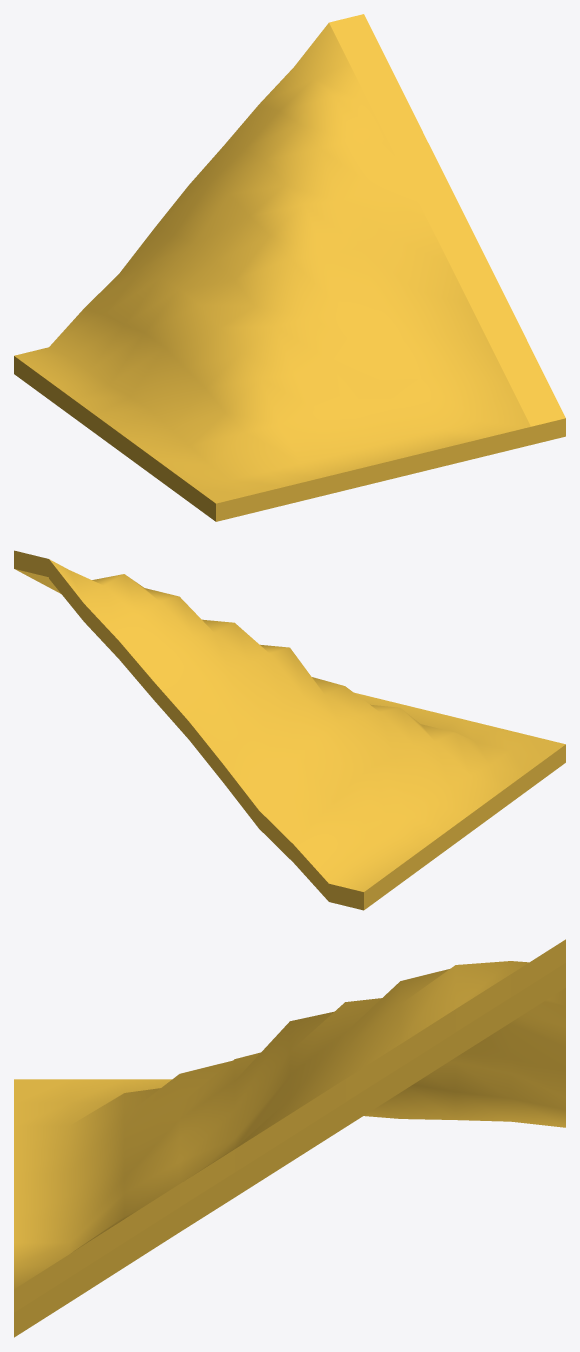
The model's file is Steil - Mitte - Ecke a - x.fbx.
The picture shows the model from 3 angles, top to bottom: view 1: azimuth 30°, elevation 25°; view 2: azimuth 150°, elevation 25°; view 3: azimuth 270°, elevation 25°; orthographic projection. The views are drawn at different scales.
Visible parts, largest first — view 1: Steil - Mitte - Ecke a - x; view 2: Steil - Mitte - Ecke a - x; view 3: Steil - Mitte - Ecke a - x.
Part boxes in pixels (x1,y1,x2,y2): Steil - Mitte - Ecke a - x: (14,14,565,521); Steil - Mitte - Ecke a - x: (14,550,565,910); Steil - Mitte - Ecke a - x: (14,939,565,1337).
Size of the model in its own units: 394 by 295 by 394.
